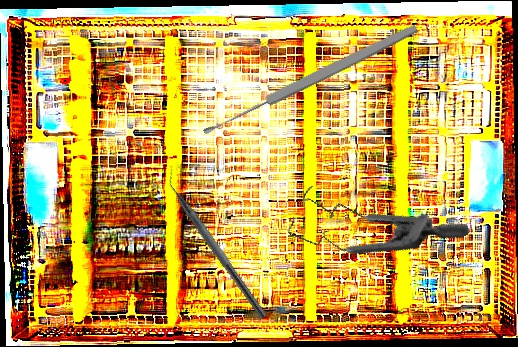Chopper: (155, 163, 278, 321)
Speculum: (273, 132, 472, 306)
Surgical Spoon: (200, 21, 420, 139)
